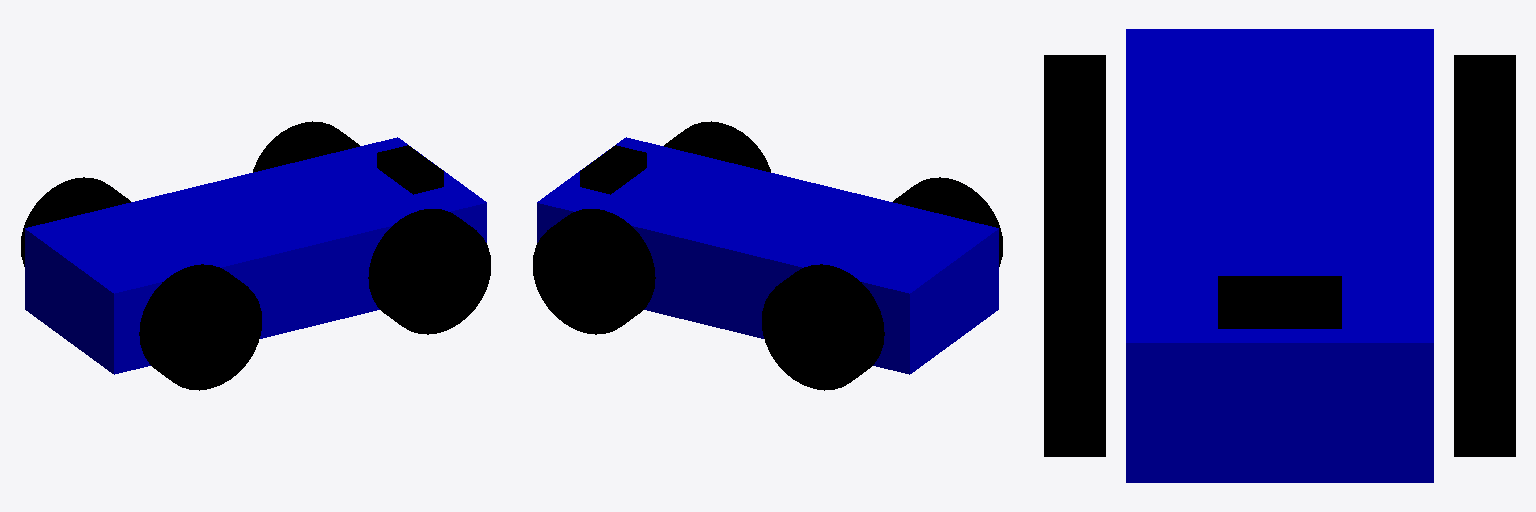
The robot description file, URDF, robot "jetson-car":
<?xml version="1.0"?>
<robot name="jetson-car">

  <material name="blue"><color rgba="0 0 0.8 1"/></material>
  <material name="black"><color rgba="0 0 0 1"/></material>

  <link name="base_link">
    <inertial>
      <mass value="0.01"/>
      <inertia ixx="0.0001" ixy="0" ixz="0" iyy="0.0001" iyz="0" izz="0.0001"/>
    </inertial>
  </link>

  <link name="chassis">
    <visual>
      <origin xyz="0.074 0 0.034" rpy="0 0 0"/>
      <geometry><box size="0.2413 0.10 0.05"/></geometry>
      <material name="blue"/>
    </visual>
    <collision>
      <origin xyz="0.074 0 0.034" rpy="0 0 0"/>
      <geometry><box size="0.2413 0.10 0.05"/></geometry>
    </collision>
    <inertial>
      <origin xyz="0.074 0 0.034" rpy="0 0 0"/>
      <mass value="1.0"/>
      <inertia ixx="0.001" ixy="0" ixz="0" iyy="0.003" iyz="0" izz="0.004"/>
    </inertial>
  </link>
  <joint name="base_to_chassis" type="fixed">
    <parent link="base_link"/>
    <child link="chassis"/>
  </joint>

  <link name="rear_left_wheel">
    <visual><origin xyz="0 0 0" rpy="1.5708 0 0"/><geometry><cylinder radius="0.034" length="0.02"/></geometry><material name="black"/></visual>
    <collision><origin xyz="0 0 0" rpy="1.5708 0 0"/><geometry><cylinder radius="0.034" length="0.02"/></geometry></collision>
    <inertial><mass value="0.1"/><inertia ixx="0.00003" ixy="0" ixz="0" iyy="0.00003" iyz="0" izz="0.00006"/></inertial>
  </link>
  <joint name="rl_wheel_joint" type="continuous">
    <parent link="base_link"/>
    <child link="rear_left_wheel"/>
    <origin xyz="0 0.0665 0.034" rpy="0 0 0"/>
    <axis xyz="0 1 0"/>
  </joint>

  <link name="rear_right_wheel">
    <visual><origin xyz="0 0 0" rpy="1.5708 0 0"/><geometry><cylinder radius="0.034" length="0.02"/></geometry><material name="black"/></visual>
    <collision><origin xyz="0 0 0" rpy="1.5708 0 0"/><geometry><cylinder radius="0.034" length="0.02"/></geometry></collision>
    <inertial><mass value="0.1"/><inertia ixx="0.00003" ixy="0" ixz="0" iyy="0.00003" iyz="0" izz="0.00006"/></inertial>
  </link>
  <joint name="rr_wheel_joint" type="continuous">
    <parent link="base_link"/>
    <child link="rear_right_wheel"/>
    <origin xyz="0 -0.0665 0.034" rpy="0 0 0"/>
    <axis xyz="0 1 0"/>
  </joint>

  <link name="fl_steering_hinge">
    <inertial><mass value="0.05"/><inertia ixx="0.00001" ixy="0" ixz="0" iyy="0.00001" iyz="0" izz="0.00001"/></inertial>
  </link>
  <joint name="fl_steering_joint" type="revolute">
    <parent link="base_link"/>
    <child link="fl_steering_hinge"/>
    <origin xyz="0.148 0.0665 0.034" rpy="0 0 0"/>
    <axis xyz="0 0 1"/> 
    <limit lower="-0.785" upper="0.785" effort="10.0" velocity="5.0"/> 
  </joint>

  <link name="front_left_wheel">
    <visual><origin xyz="0 0 0" rpy="1.5708 0 0"/><geometry><cylinder radius="0.034" length="0.02"/></geometry><material name="black"/></visual>
    <collision><origin xyz="0 0 0" rpy="1.5708 0 0"/><geometry><cylinder radius="0.034" length="0.02"/></geometry></collision>
    <inertial><mass value="0.1"/><inertia ixx="0.00003" ixy="0" ixz="0" iyy="0.00003" iyz="0" izz="0.00006"/></inertial>
  </link>
  <joint name="fl_wheel_joint" type="continuous">
    <parent link="fl_steering_hinge"/>
    <child link="front_left_wheel"/>
    <origin xyz="0 0 0" rpy="0 0 0"/>
    <axis xyz="0 1 0"/>
  </joint>

  <link name="fr_steering_hinge">
    <inertial><mass value="0.05"/><inertia ixx="0.00001" ixy="0" ixz="0" iyy="0.00001" iyz="0" izz="0.00001"/></inertial>
  </link>
  <joint name="fr_steering_joint" type="revolute">
    <parent link="base_link"/>
    <child link="fr_steering_hinge"/>
    <origin xyz="0.148 -0.0665 0.034" rpy="0 0 0"/>
    <axis xyz="0 0 1"/> 
    <limit lower="-0.785" upper="0.785" effort="10.0" velocity="5.0"/> 
  </joint>

  <link name="front_right_wheel">
    <visual><origin xyz="0 0 0" rpy="1.5708 0 0"/><geometry><cylinder radius="0.034" length="0.02"/></geometry><material name="black"/></visual>
    <collision><origin xyz="0 0 0" rpy="1.5708 0 0"/><geometry><cylinder radius="0.034" length="0.02"/></geometry></collision>
    <inertial><mass value="0.1"/><inertia ixx="0.00003" ixy="0" ixz="0" iyy="0.00003" iyz="0" izz="0.00006"/></inertial>
  </link>
  <joint name="fr_wheel_joint" type="continuous">
    <parent link="fr_steering_hinge"/>
    <child link="front_right_wheel"/>
    <origin xyz="0 0 0" rpy="0 0 0"/>
    <axis xyz="0 1 0"/>
  </joint>

  <link name="camera_link">
    <visual>
      <origin xyz="0 0 0" rpy="0 0 0"/>
      <geometry><box size="0.02 0.04 0.02"/></geometry> 
      <material name="black"/>
    </visual>
  </link>

  <joint name="camera_joint" type="fixed">
    <parent link="base_link"/>
    <child link="camera_link"/>
    <origin xyz="0.174 0 0.0587" rpy="0 0 0"/>
  </joint>

  <gazebo reference="camera_link">
    <sensor name="lane_camera" type="camera">
      <pose>0 0 0 0 0 0</pose> 
      <always_on>1</always_on>
      <update_rate>60</update_rate>
      <camera>
        <horizontal_fov>1.1</horizontal_fov>
        <image><width>1280</width><height>720</height></image>
        <clip><near>0.1</near><far>100</far></clip>
      </camera>
      <topic>/camera/lane/raw_video</topic>
    </sensor>
  </gazebo>

  <gazebo>
    <plugin filename="gz-sim-ackermann-steering-system" name="gz::sim::systems::AckermannSteering">
      <left_joint>rl_wheel_joint</left_joint>
      <right_joint>rr_wheel_joint</right_joint>
      <left_steering_joint>fl_steering_joint</left_steering_joint>
      <right_steering_joint>fr_steering_joint</right_steering_joint>
      <wheelbase>0.148</wheelbase>
      <wheel_separation>0.133</wheel_separation>
      <wheel_radius>0.034</wheel_radius>
      <topic>cmd_vel</topic>
    </plugin>
    
    <plugin filename="libignition-gazebo-odometry-publisher-system.so" name="ignition::gazebo::systems::OdometryPublisher">
      <odom_frame>odom</odom_frame>
      <robot_base_frame>base_link</robot_base_frame>
      <odom_topic>/model/jetson_car/ground_truth</odom_topic> 
      <odom_publish_frequency>50</odom_publish_frequency>
      <dimensions>3</dimensions>
    </plugin>
  </gazebo>
</robot>

--- What the picture shows (computed from the rendered views, not written in the file) ---
3 views of the same robot in one strip: view 1: azimuth 30°, elevation 25°; view 2: azimuth 150°, elevation 25°; view 3: azimuth 270°, elevation 25° (orthographic).
Model jetson-car with 9 links and 8 joints (2 revolute, 4 continuous, 2 fixed), rooted at base_link, posed all joints at 0.
Visible links, largest first — view 1: chassis, rear_right_wheel, front_right_wheel, rear_left_wheel, front_left_wheel, camera_link; view 2: chassis, rear_left_wheel, front_left_wheel, rear_right_wheel, front_right_wheel, camera_link; view 3: chassis, front_left_wheel, front_right_wheel, rear_left_wheel, rear_right_wheel, camera_link.
Link boxes in pixels (<box>): chassis: <box>25,137,486,374</box>; rear_right_wheel: <box>139,264,261,390</box>; front_right_wheel: <box>368,209,490,334</box>; rear_left_wheel: <box>21,177,130,266</box>; front_left_wheel: <box>253,121,359,172</box>; camera_link: <box>377,145,443,194</box>; chassis: <box>537,137,998,374</box>; rear_left_wheel: <box>762,264,884,390</box>; front_left_wheel: <box>533,209,655,334</box>; rear_right_wheel: <box>893,177,1002,266</box>; front_right_wheel: <box>664,121,770,172</box>; camera_link: <box>580,145,646,194</box>; chassis: <box>1126,29,1433,482</box>; front_left_wheel: <box>1454,248,1515,456</box>; front_right_wheel: <box>1044,248,1105,456</box>; rear_left_wheel: <box>1454,55,1515,247</box>; rear_right_wheel: <box>1044,55,1105,247</box>; camera_link: <box>1218,276,1341,328</box>.
Size in the robot's own frame: 0.2413 by 0.153 by 0.0687 metres.
Geometry: primitives only (box / cylinder / sphere), no mesh files.
